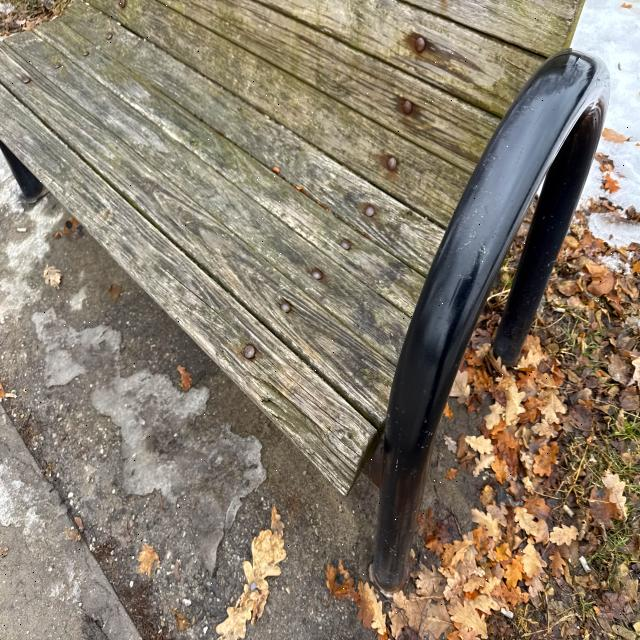Bench: (86, 2, 621, 517)
